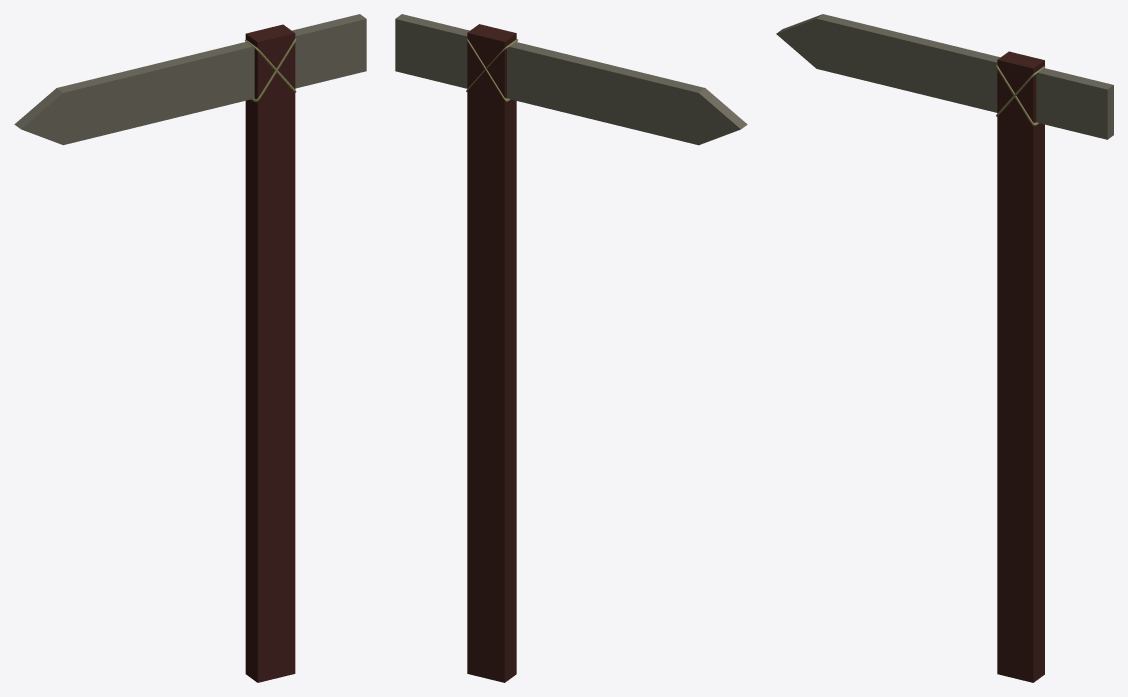
File: sign_left_MY.fbx
The picture shows the model from 3 angles, left to right: view 1: azimuth 30°, elevation 25°; view 2: azimuth 150°, elevation 25°; view 3: azimuth 330°, elevation 25°; orthographic projection. The views are drawn at different scales.
Visible parts, largest first — view 1: Plane.001; view 2: Plane.001; view 3: Plane.001.
Boxes of the visible parts, x1,y1,x2,y2 form: Plane.001: (14,14,366,682); Plane.001: (395,14,747,682); Plane.001: (776,14,1113,682).
Size of the model in its own units: 1665 by 2949 by 112.
